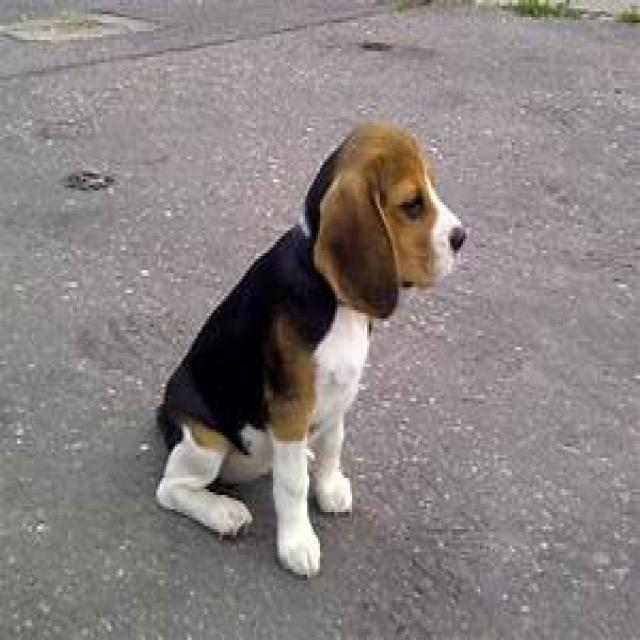dog: (156, 122, 469, 580)
